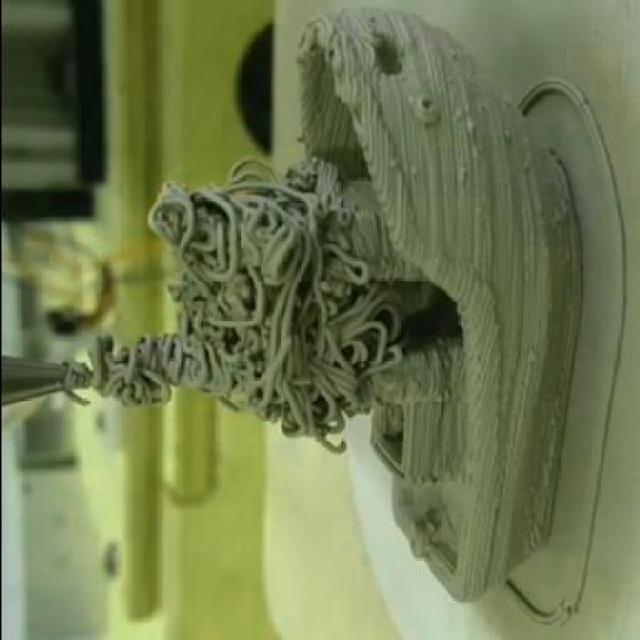Spaghetti: (43, 144, 409, 464)
